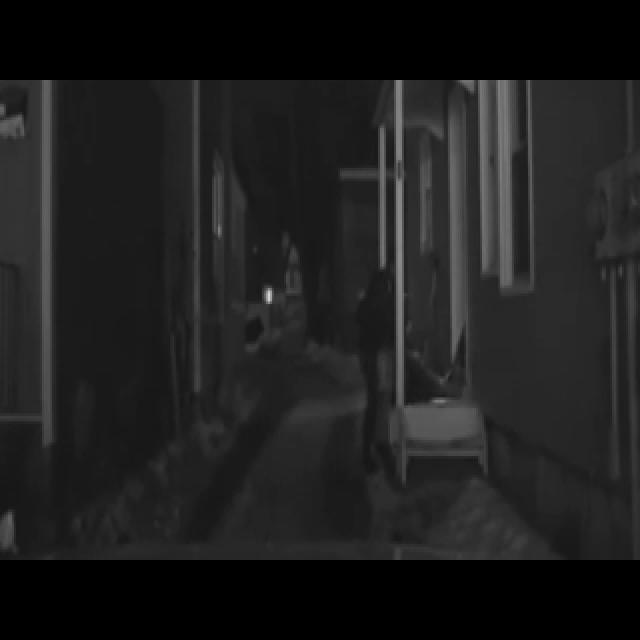shooting: (316, 123, 521, 480)
